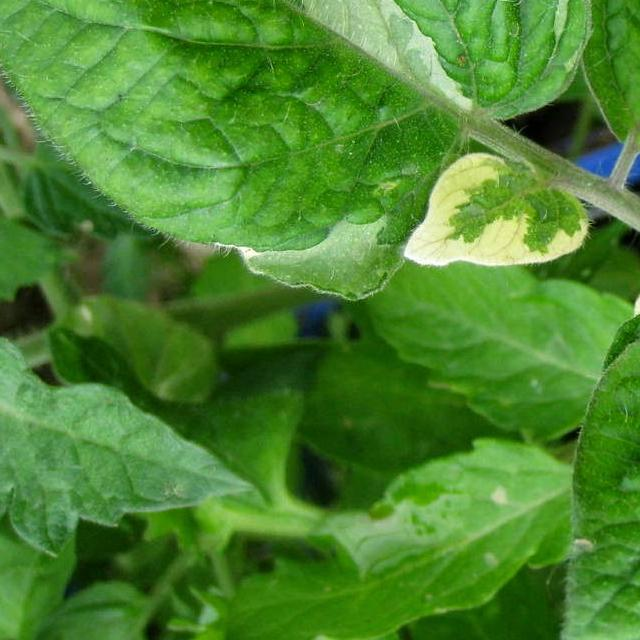Tomato leaf: (0, 343, 259, 554), (553, 292, 640, 640)
